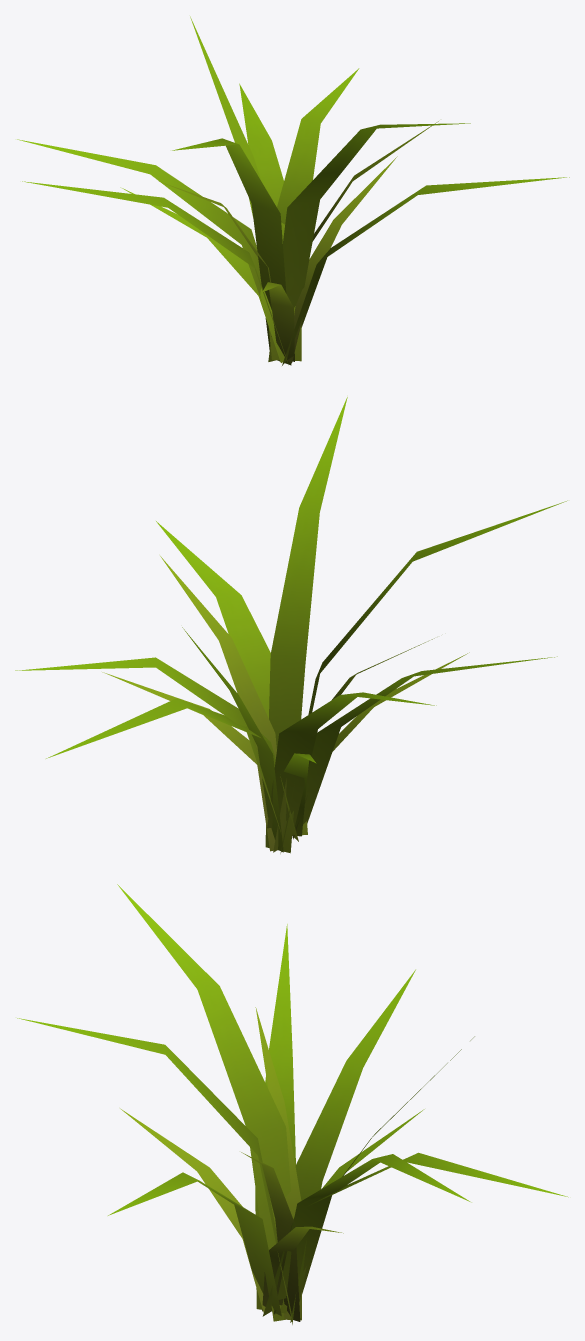
File: Bush_Grassy_C.fbx
The picture shows the model from 3 angles, top to bottom: view 1: azimuth 30°, elevation 25°; view 2: azimuth 150°, elevation 25°; view 3: azimuth 270°, elevation 25°; orthographic projection. The views are drawn at different scales.
Visible parts, largest first — view 1: Bush_Grassy_C; view 2: Bush_Grassy_C; view 3: Bush_Grassy_C.
Part boxes in pixels (<box>): Bush_Grassy_C: <box>17,16,569,365</box>; Bush_Grassy_C: <box>15,397,567,853</box>; Bush_Grassy_C: <box>17,884,568,1324</box>.
Size of the model in its own units: 159 by 103 by 154.
